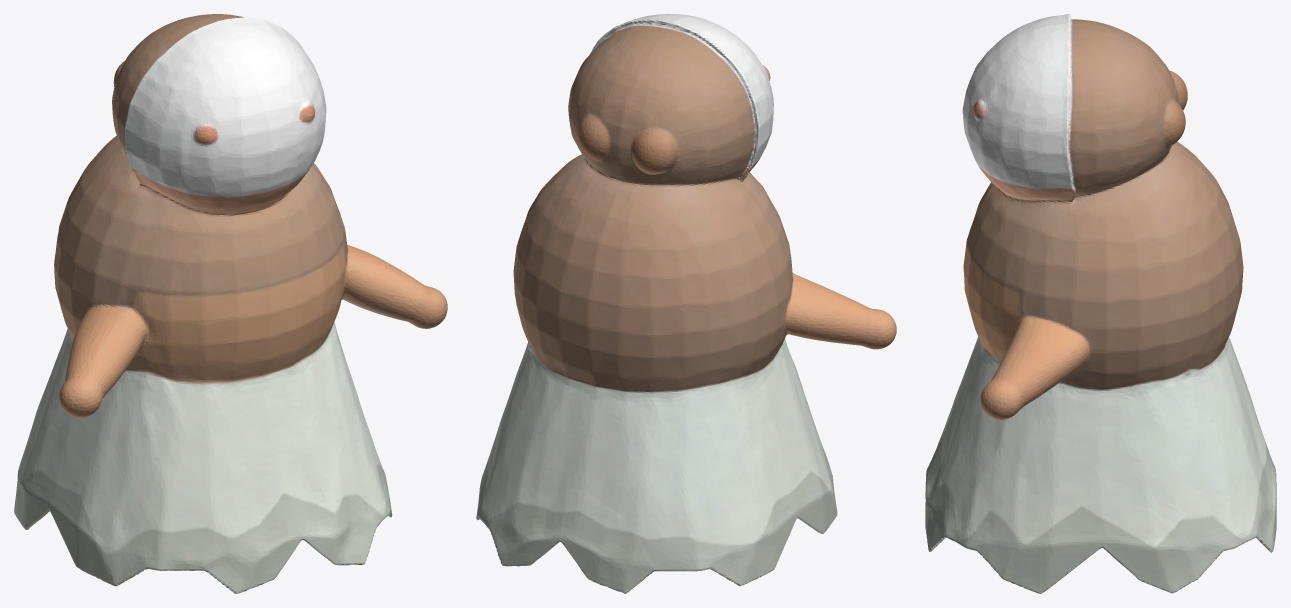
The model's file is creature-130.glb.
The picture shows the model from 3 angles, left to right: view 1: azimuth 30°, elevation 25°; view 2: azimuth 150°, elevation 25°; view 3: azimuth 270°, elevation 25°; orthographic projection. The views are drawn at different scales.
Parts seen in each view (by area): view 1: tmpzkhc475q.ply; view 2: tmpzkhc475q.ply; view 3: tmpzkhc475q.ply.
Boxes of the visible parts, x1,y1,x2,y2 form: tmpzkhc475q.ply: (14,14,447,593); tmpzkhc475q.ply: (476,14,896,593); tmpzkhc475q.ply: (925,14,1276,593).
Bounding box in the file's own units: 1.55 × 1.97 × 1.26.
Materials: 1 (1 with a texture image).
